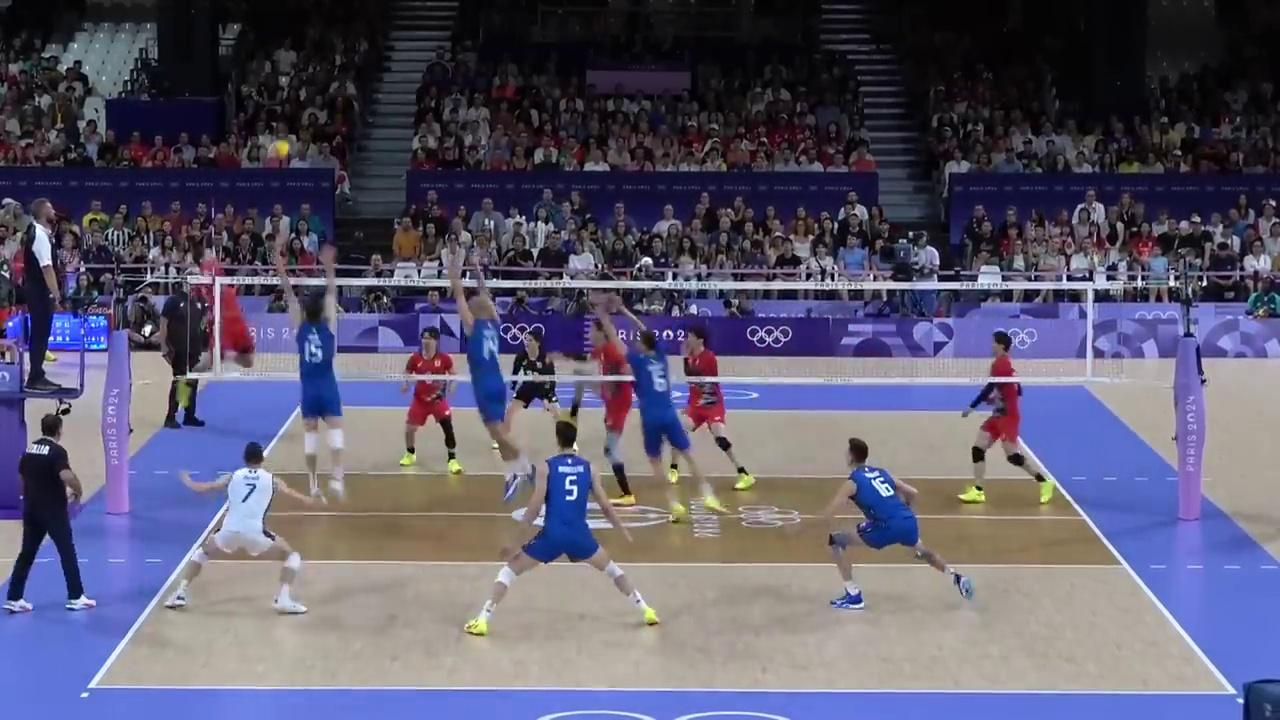ball: (270, 141, 291, 163)
